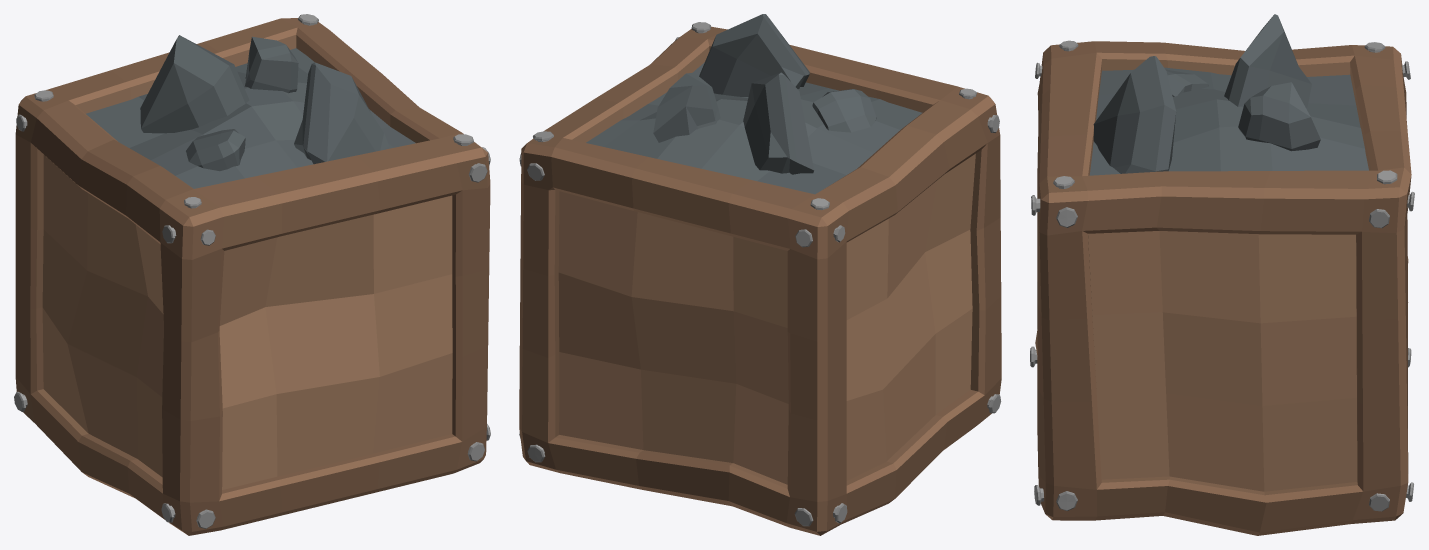
Rendered from Crate_Small_Grey.fbx.
3 views of the same model, side by side, from view 1: azimuth 30°, elevation 25°; view 2: azimuth 150°, elevation 25°; view 3: azimuth 270°, elevation 25° (orthographic). The views are drawn at different scales.
Parts seen in each view (by area): view 1: Crate_Small_Grey, Grey; view 2: Crate_Small_Grey, Grey; view 3: Crate_Small_Grey, Grey.
Boxes of the visible parts, x1,y1,x2,y2 form: Crate_Small_Grey: (14, 14, 490, 535); Grey: (140, 35, 388, 171); Crate_Small_Grey: (519, 22, 1001, 535); Grey: (653, 14, 876, 174); Crate_Small_Grey: (1030, 40, 1414, 535); Grey: (1093, 14, 1320, 173).
Bounding box in the file's own units: 71.1 × 86.73 × 71.11.
